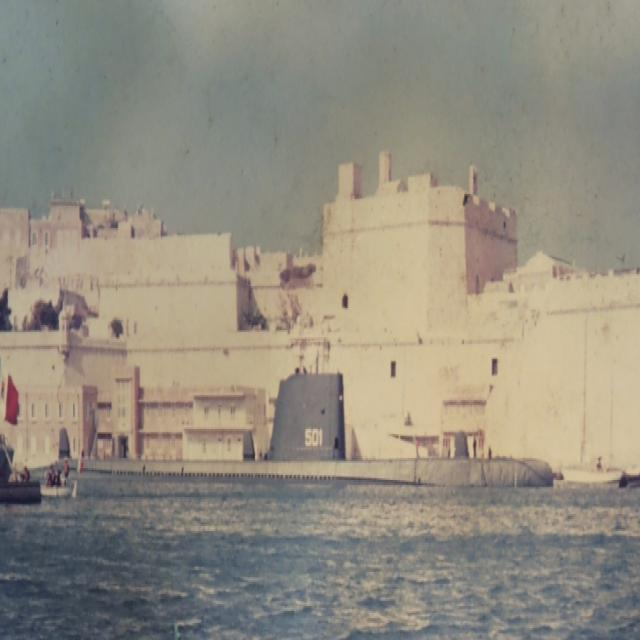submarine: (25, 372, 556, 488)
